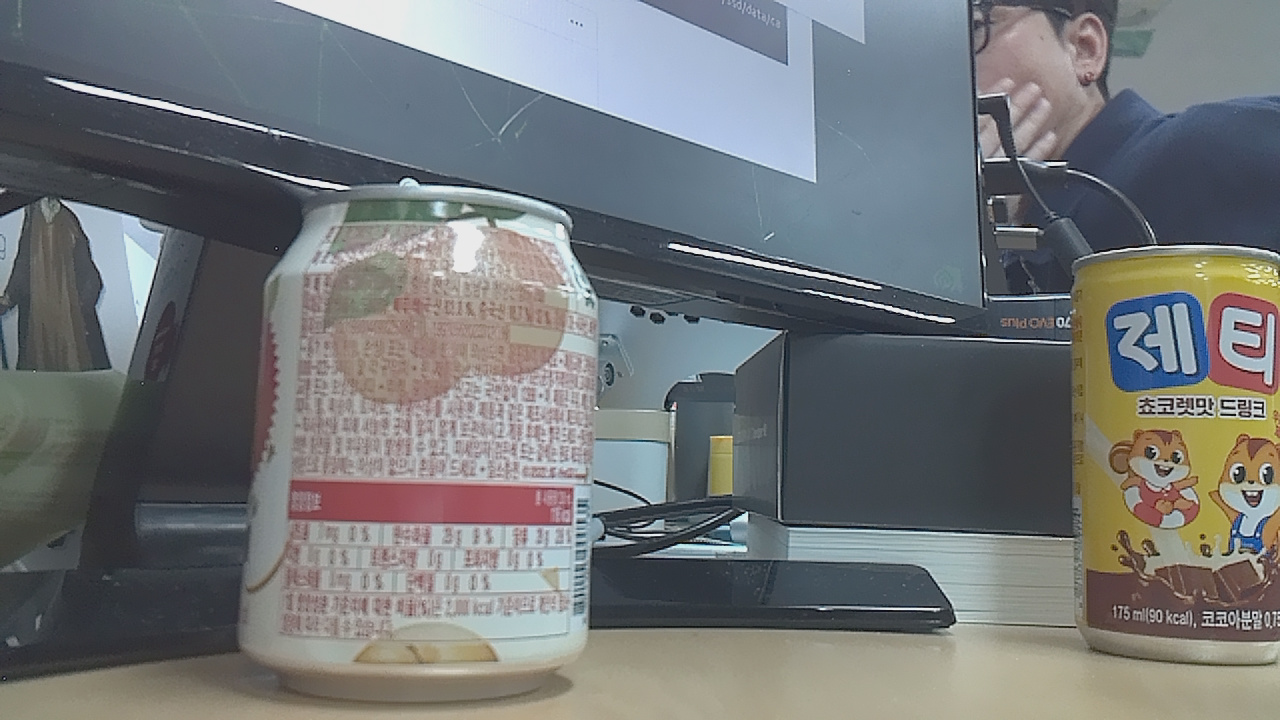IdH (pear juice): (247, 139, 618, 685)
jetty: (946, 242, 1213, 674)
